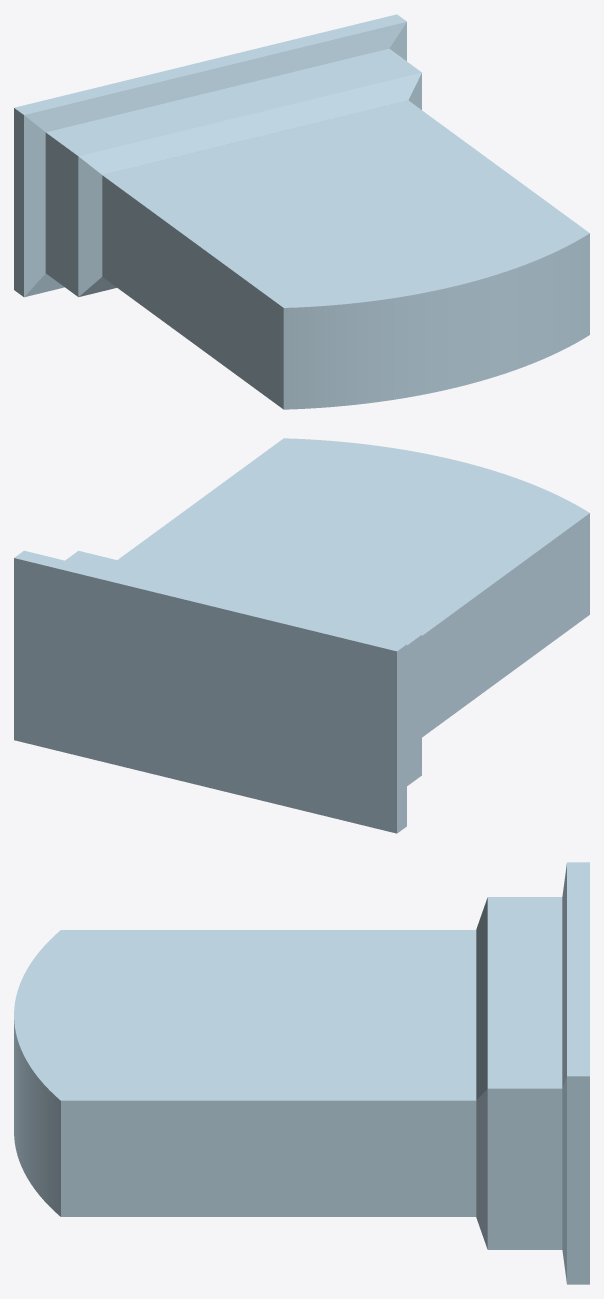
3 views of the same model, one above another, from view 1: azimuth 30°, elevation 25°; view 2: azimuth 150°, elevation 25°; view 3: azimuth 270°, elevation 25° (orthographic). The views are drawn at different scales.
Visible parts, largest first — view 1: PA-396-F_LOD0; view 2: PA-396-F_LOD0; view 3: PA-396-F_LOD0.
Part boxes in pixels (x1,y1,x2,y2): PA-396-F_LOD0: [14, 14, 589, 409]; PA-396-F_LOD0: [14, 438, 589, 833]; PA-396-F_LOD0: [14, 862, 589, 1284].
Size of what is drawn, in the model's own units: 55.88 by 25.4 by 63.62.
